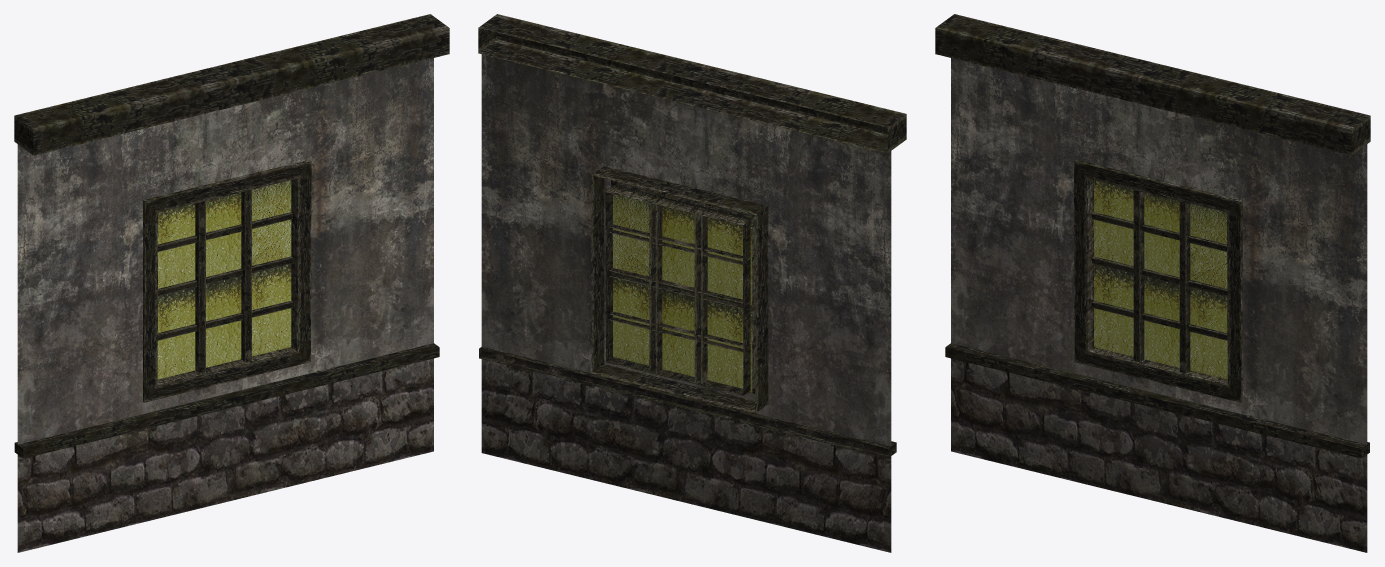
File: pubwallwindow_lit.DAE
3 renders of one model, left to right at view 1: azimuth 30°, elevation 25°; view 2: azimuth 150°, elevation 25°; view 3: azimuth 330°, elevation 25°, orthographic.
Parts seen in each view (by area): view 1: Object164, Object162, Object161, Object163; view 2: Object164, Object162, Object161, Object163; view 3: Object164, Object162, Object161, Object163.
Boxes of the visible parts, x1,y1,x2,y2 form: Object164: (17,58,433,444); Object162: (14,14,449,458); Object161: (17,358,433,552); Object163: (157,180,291,379); Object164: (481,51,891,446); Object162: (478,14,906,458); Object161: (481,350,891,552); Object163: (611,184,752,392); Object164: (951,58,1367,444); Object162: (935,14,1370,458); Object161: (951,358,1367,552); Object163: (1094,180,1227,379).
Bounding box in the file's own units: 4.01 × 4 × 0.4783.
